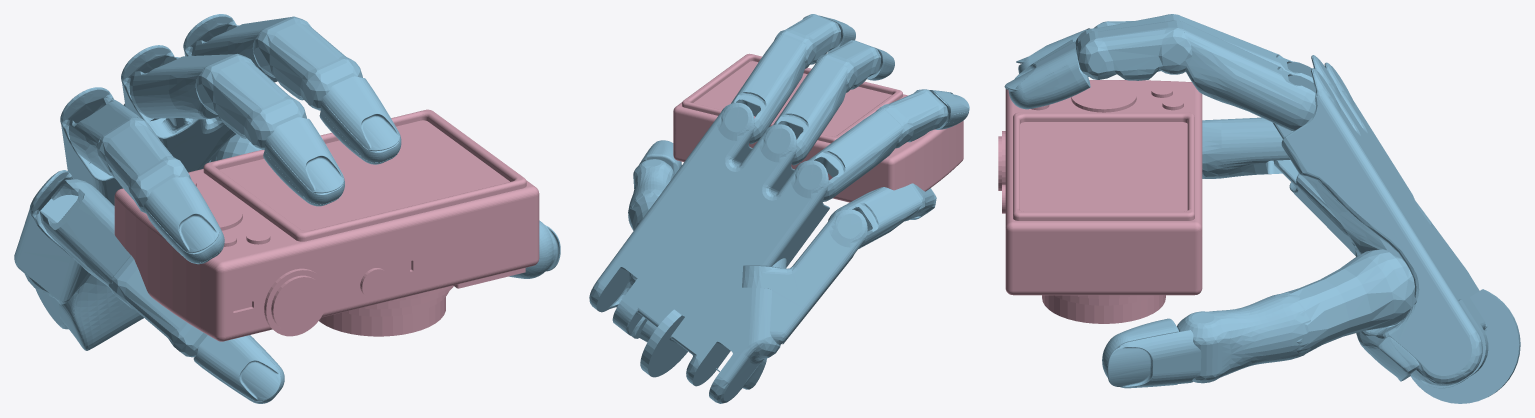
The picture shows the model from 3 angles, left to right: view 1: azimuth 30°, elevation 25°; view 2: azimuth 150°, elevation 25°; view 3: azimuth 270°, elevation 25°; orthographic projection. The views are drawn at different scales.
Visible parts, largest first — view 1: world, camera.stl; view 2: world, camera.stl; view 3: world, camera.stl.
Part boxes in pixels (x1,y1,x2,y2): world: (14,14,560,403); camera.stl: (114,109,539,341); world: (589,14,969,403); camera.stl: (673,53,963,202); world: (1004,14,1520,403); camera.stl: (998,80,1202,323).
Size of the model in its own units: 0.1491 by 0.1367 by 0.1718.
